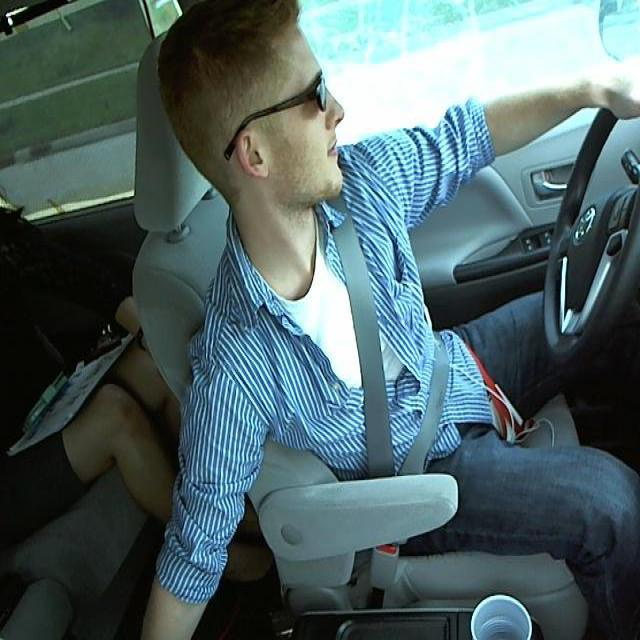seatbelt: (318, 220, 465, 475)
